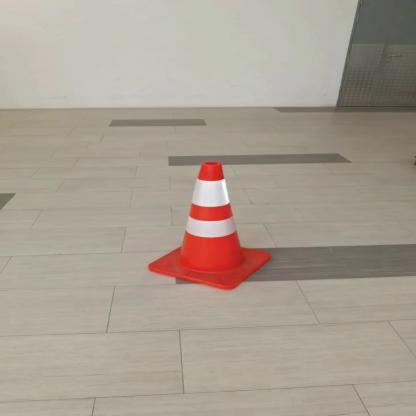cone: (130, 158, 293, 296)
